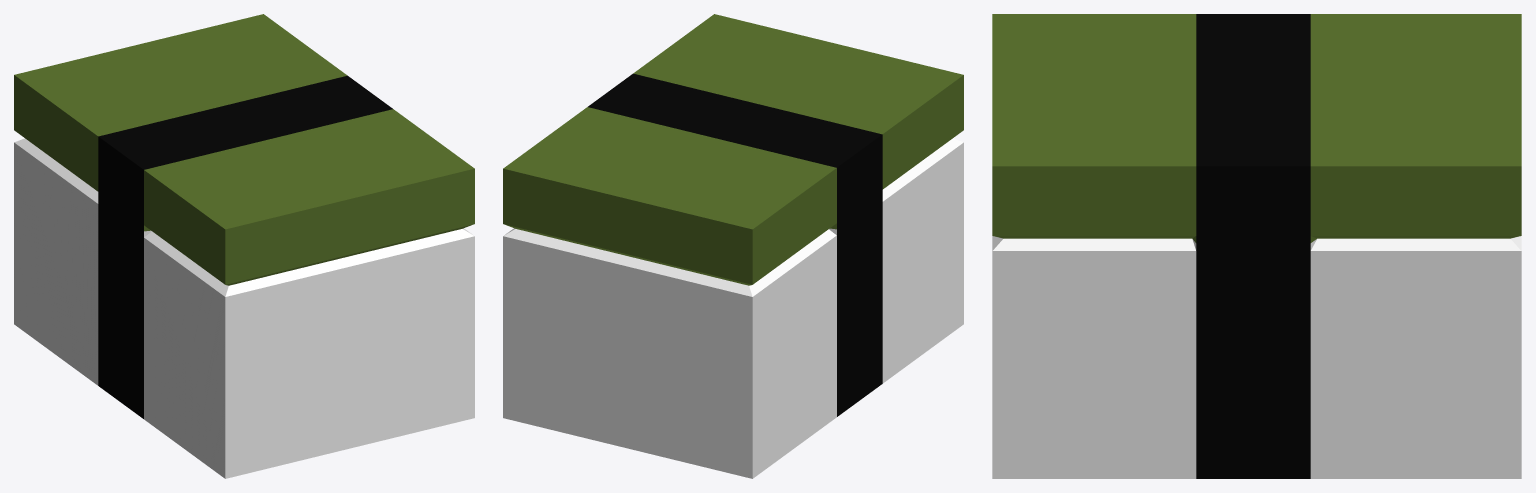
The model's file is sashimi_02.fbx.
The picture shows the model from 3 angles, left to right: view 1: azimuth 30°, elevation 25°; view 2: azimuth 150°, elevation 25°; view 3: azimuth 270°, elevation 25°; orthographic projection. The views are drawn at different scales.
Parts seen in each view (by area): view 1: sashimi_02; view 2: sashimi_02; view 3: sashimi_02.
Part boxes in pixels (bbox=[...]): sashimi_02: bbox=[14, 14, 474, 478]; sashimi_02: bbox=[503, 14, 963, 478]; sashimi_02: bbox=[992, 14, 1521, 478].
Size of the model in its own units: 172 by 164 by 252.
Materials: 1 (1 with a texture image).
